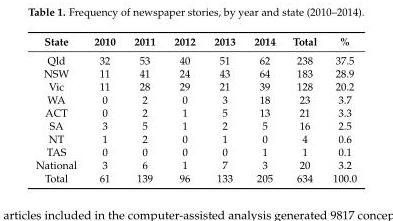table: (34, 34, 356, 184)
table column: (34, 34, 84, 184), (283, 34, 324, 184), (84, 34, 124, 184), (124, 34, 164, 184), (164, 34, 204, 184), (204, 34, 244, 184), (244, 34, 283, 184), (324, 34, 356, 184)
table column header: (34, 34, 356, 50)
table row: (34, 34, 356, 50), (34, 50, 356, 66), (34, 157, 356, 171), (34, 66, 356, 79), (34, 79, 356, 92), (34, 92, 356, 105), (34, 105, 356, 118), (34, 118, 356, 131), (34, 131, 356, 144), (34, 144, 356, 157), (34, 171, 356, 184)
